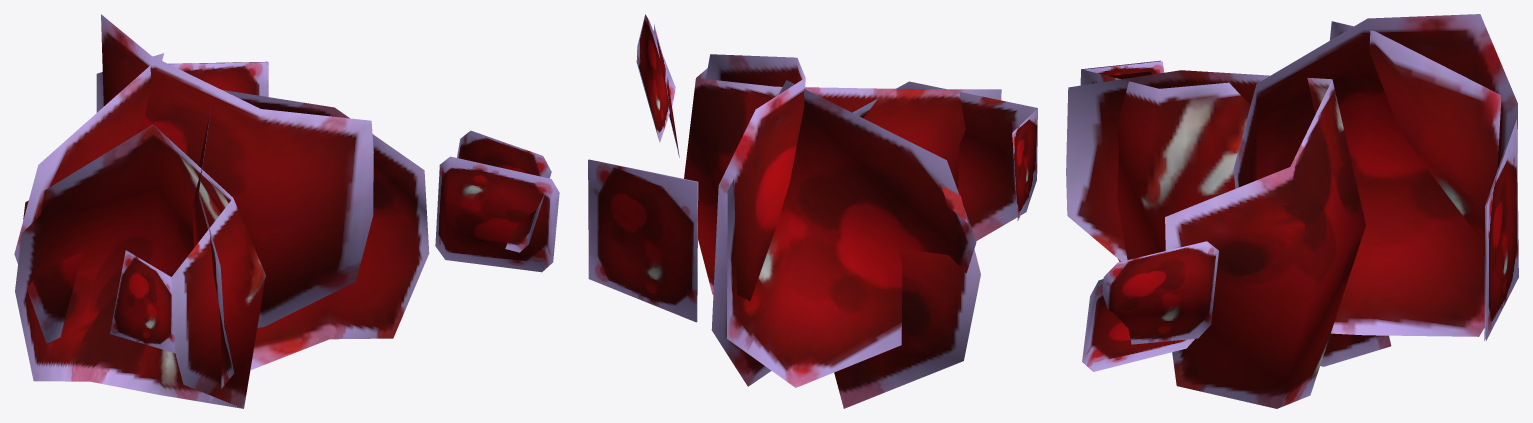
File: Zombie_Broken_Clown_Body_db919f82__Zombie_Broken_Purple_cee75a00_c1f257.obj
3 views of the same model, side by side, from view 1: azimuth 30°, elevation 25°; view 2: azimuth 150°, elevation 25°; view 3: azimuth 270°, elevation 25° (orthographic). The views are drawn at different scales.
Bounding box in the file's own units: 0.7949 × 0.5612 × 0.6404.
1 material, 1 textured.
